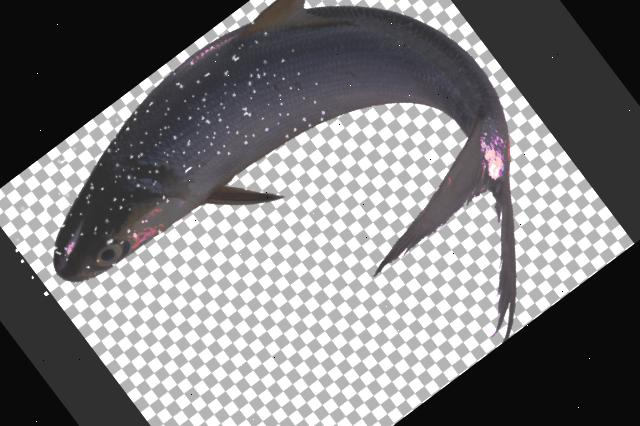Ichthyophthirius -White Spots-: (54, 0, 515, 319), (54, 0, 515, 319), (54, 0, 515, 319)
